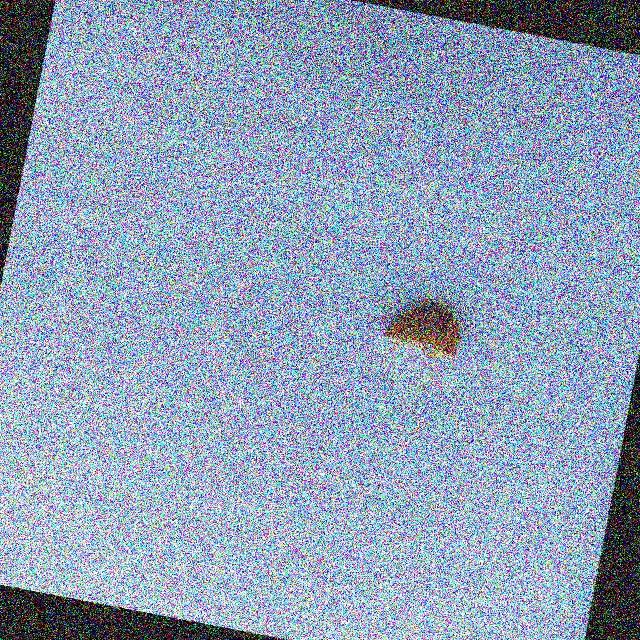grade4: (372, 290, 473, 368)
